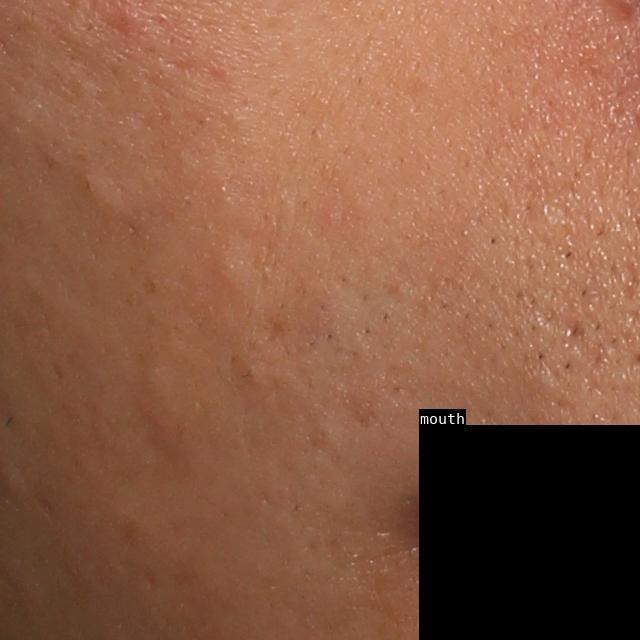comedo: (69, 163, 130, 217), (204, 243, 254, 288)
